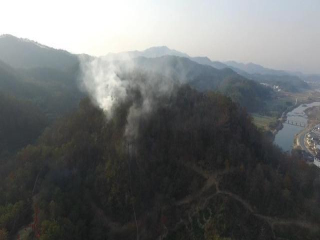smoke: (76, 51, 195, 139)
